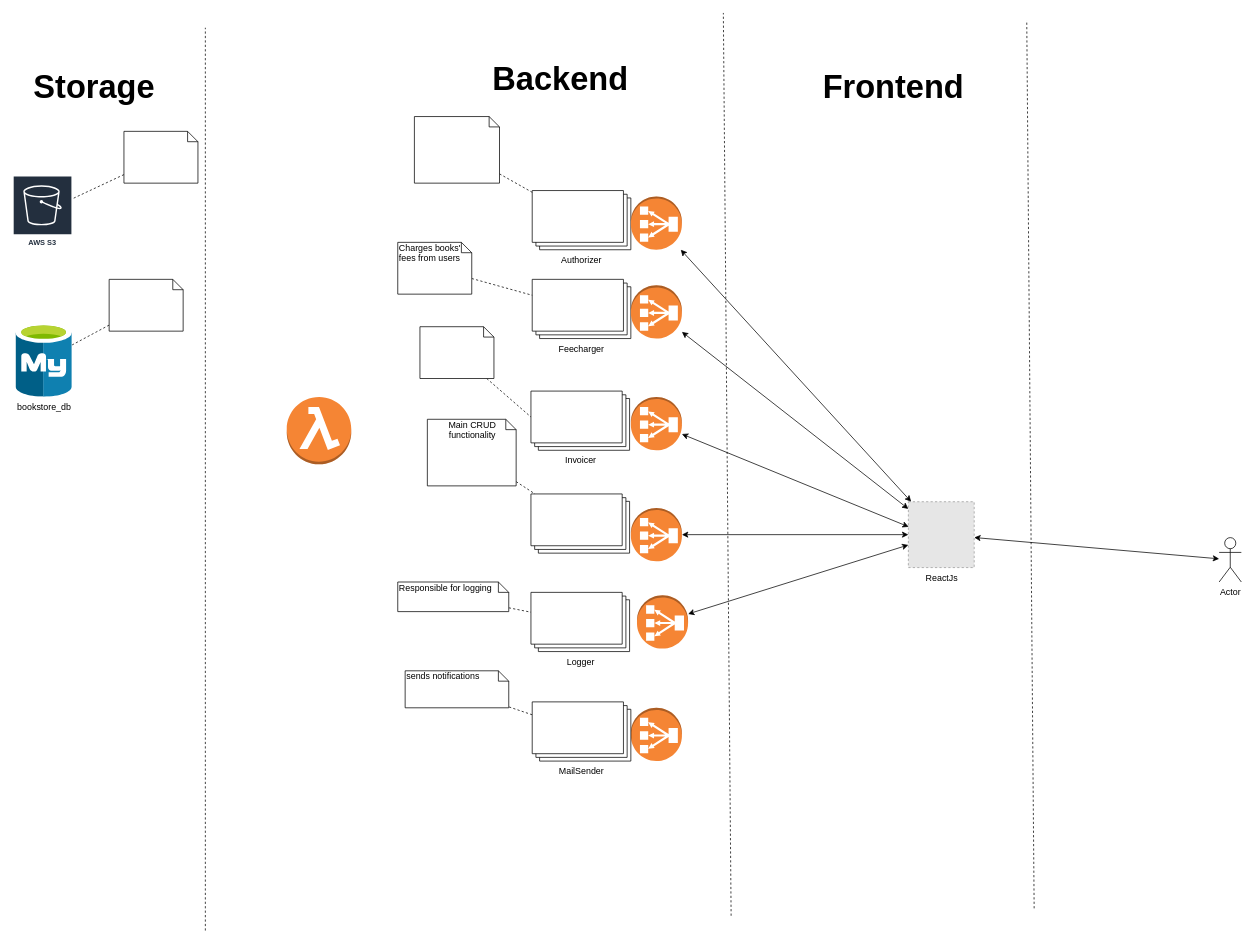
The diagram is 1254 pixels wide and 944 high, and some of its shapes have lost their labels. Grey dashed boxes stand in for pictures. The shapes that lost their labels are listed below. From the top down, each one's centre as x and y in pixels, then its label:
the point at 160,157: Stores books(files) and photos
the point at 457,149: Authorizes users via issuing them JWT tokens.
the point at 145,305: Stores all data
the point at 456,352: Generates invoices for users( uses Invoice generator)
the point at 318,430: Invoice generator(AWS lambda function)
the point at 580,523: Library
